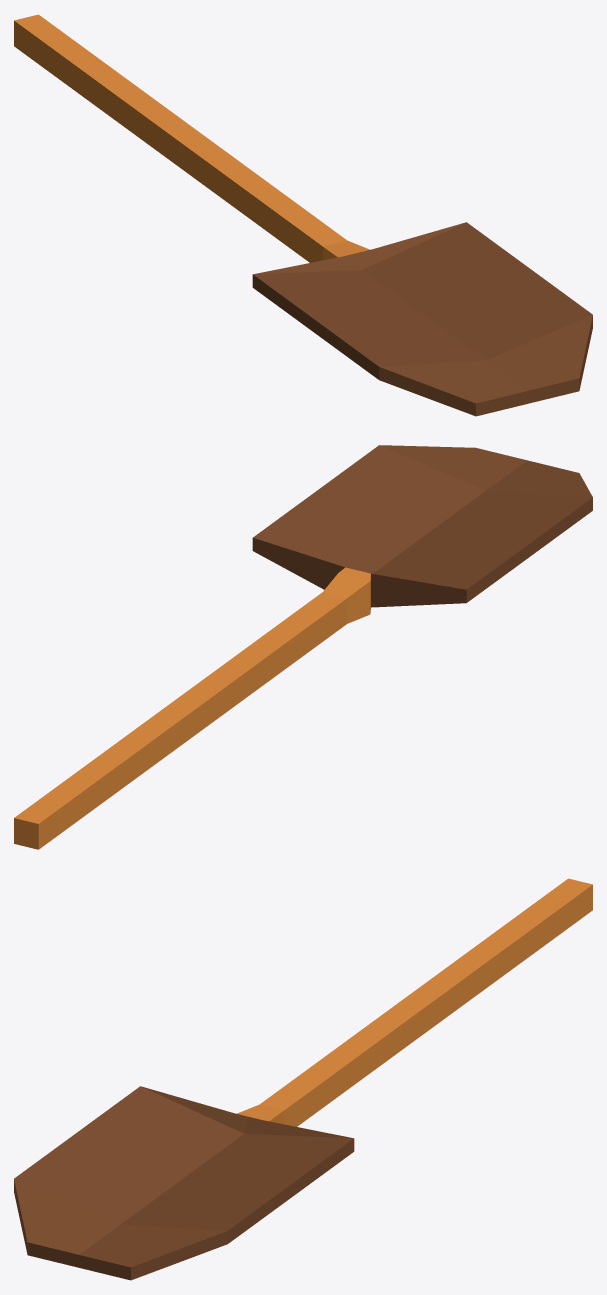
Rendered from bronze_shovel.glb.
3 views of the same model, one above another, from view 1: azimuth 30°, elevation 25°; view 2: azimuth 150°, elevation 25°; view 3: azimuth 330°, elevation 25° (orthographic).
Parts seen in each view (by area): view 1: Cube; view 2: Cube; view 3: Cube.
Boxes of the visible parts, bbox=[...] form: Cube: bbox=[14, 14, 592, 416]; Cube: bbox=[14, 445, 592, 849]; Cube: bbox=[14, 878, 592, 1280].
Bounding box in the file's own units: 4.29 × 0.8235 × 17.41.
